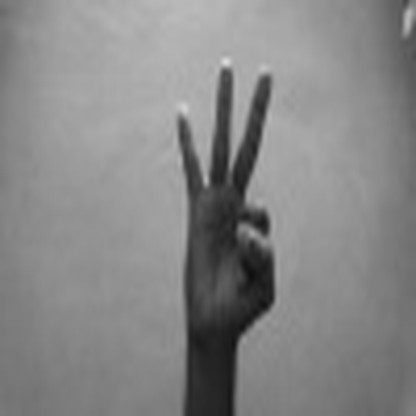f: (143, 46, 290, 351)
